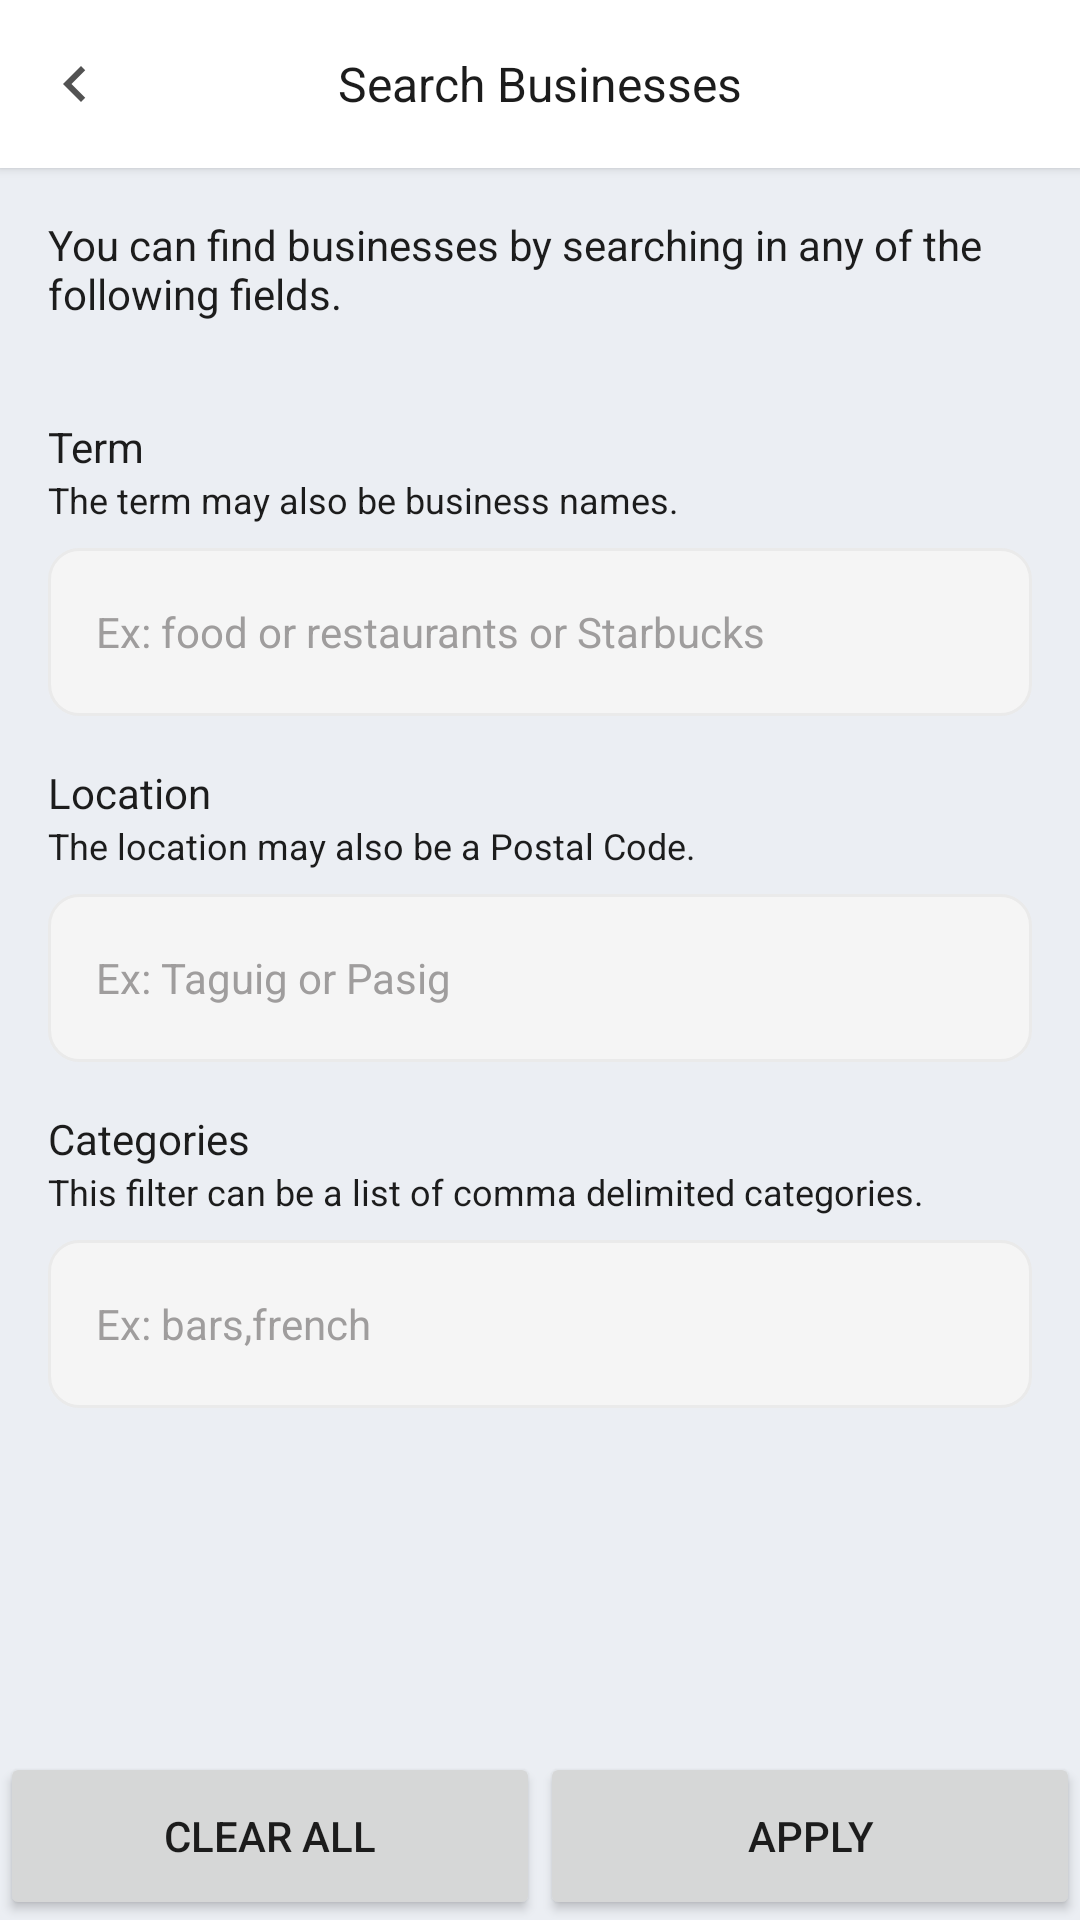

Where icons sit on this 1080 × 1920 app screen, as (x1, y1, x2, y2):
back: (63, 66, 85, 102)
